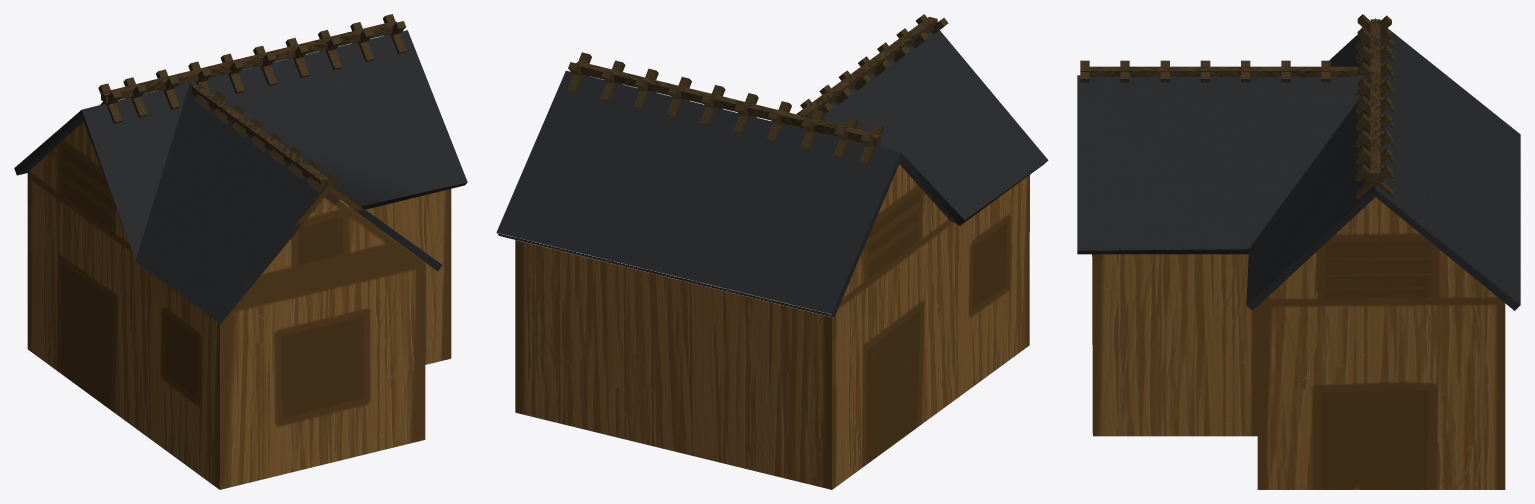
Rendered from house2.fbx.
The picture shows the model from 3 angles, left to right: view 1: azimuth 30°, elevation 25°; view 2: azimuth 150°, elevation 25°; view 3: azimuth 270°, elevation 25°; orthographic projection. The views are drawn at different scales.
Parts seen in each view (by area): view 1: Object065; view 2: Object065; view 3: Object065.
Boxes of the visible parts, x1,y1,x2,y2 form: Object065: [14, 14, 467, 489]; Object065: [496, 14, 1048, 489]; Object065: [1077, 14, 1520, 489].
Bounding box in the file's own units: 50.1 × 43.65 × 54.13.
